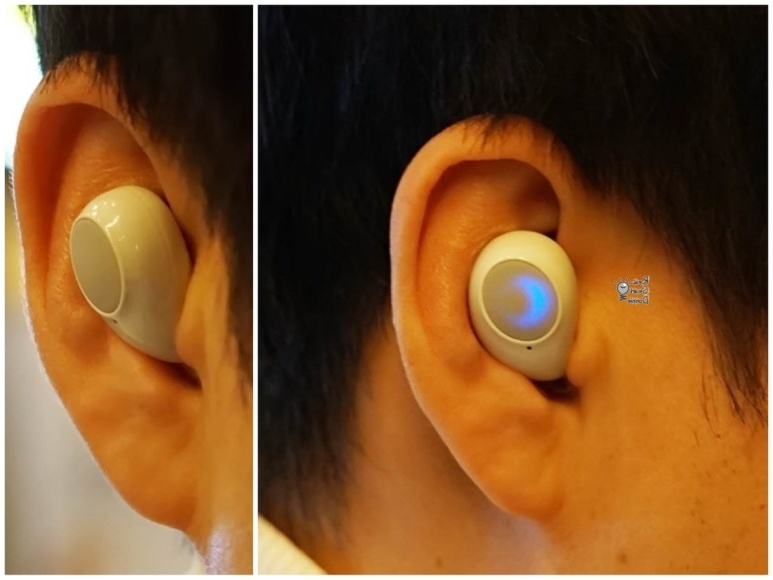earphone: (12, 52, 221, 529), (387, 113, 574, 521)
